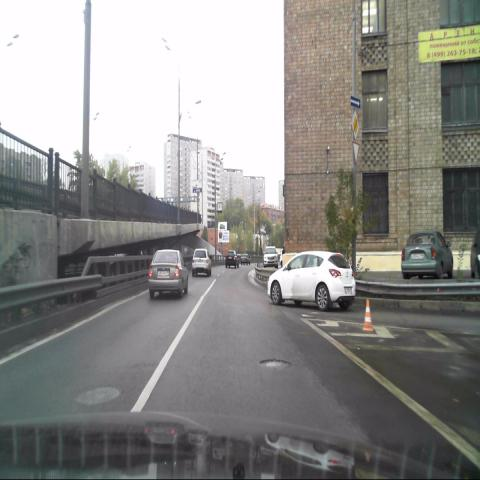2_2: (351, 112, 361, 139)
